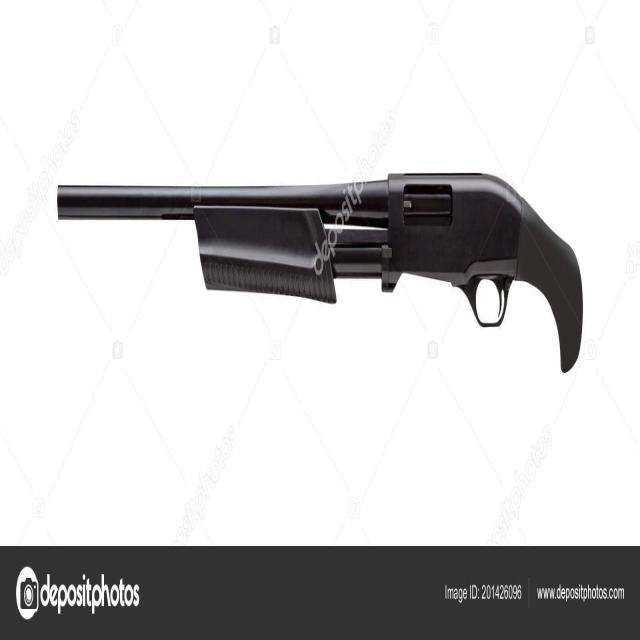ShotGun: (56, 175, 581, 372)
